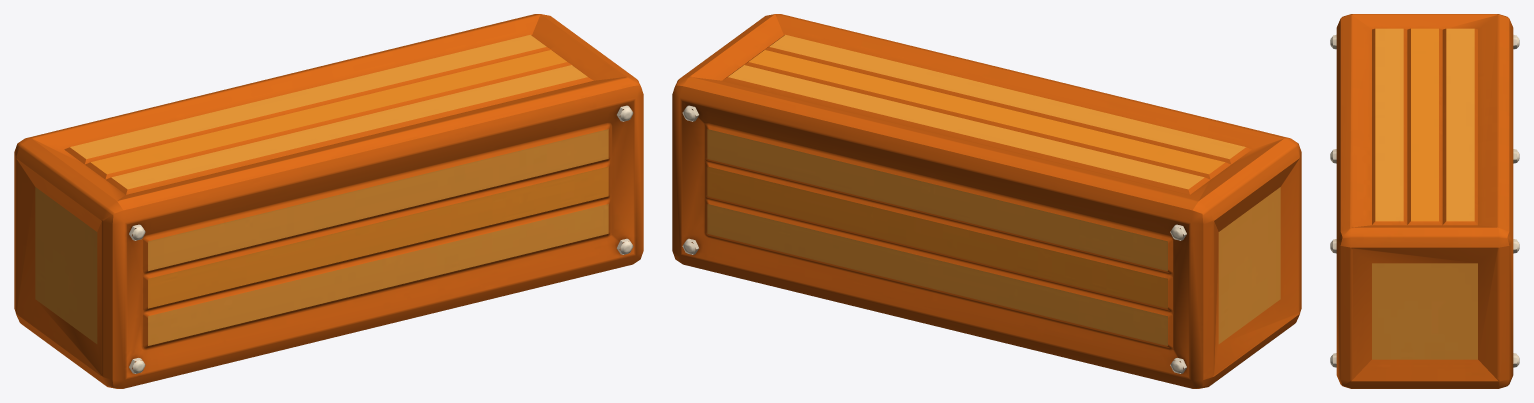
Rendered from pl_kalas.glb.
3 views of the same model, side by side, from view 1: azimuth 30°, elevation 25°; view 2: azimuth 150°, elevation 25°; view 3: azimuth 270°, elevation 25° (orthographic). The views are drawn at different scales.
Visible parts, largest first — view 1: pl_kalas; view 2: pl_kalas; view 3: pl_kalas.
Part boxes in pixels (x1,y1,x2,y2): pl_kalas: (14, 14, 643, 388); pl_kalas: (672, 14, 1301, 388); pl_kalas: (1330, 14, 1519, 388).
Size of the model in its own units: 4.64 by 1.54 by 1.64.
Materials: 1 (1 with a texture image).
